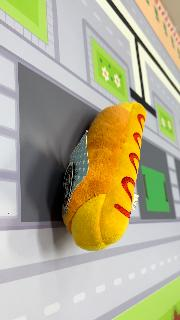hotdog: (60, 100, 148, 252)
